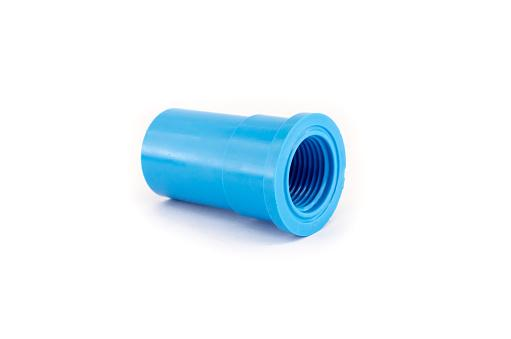PVC: (140, 107, 347, 239)
